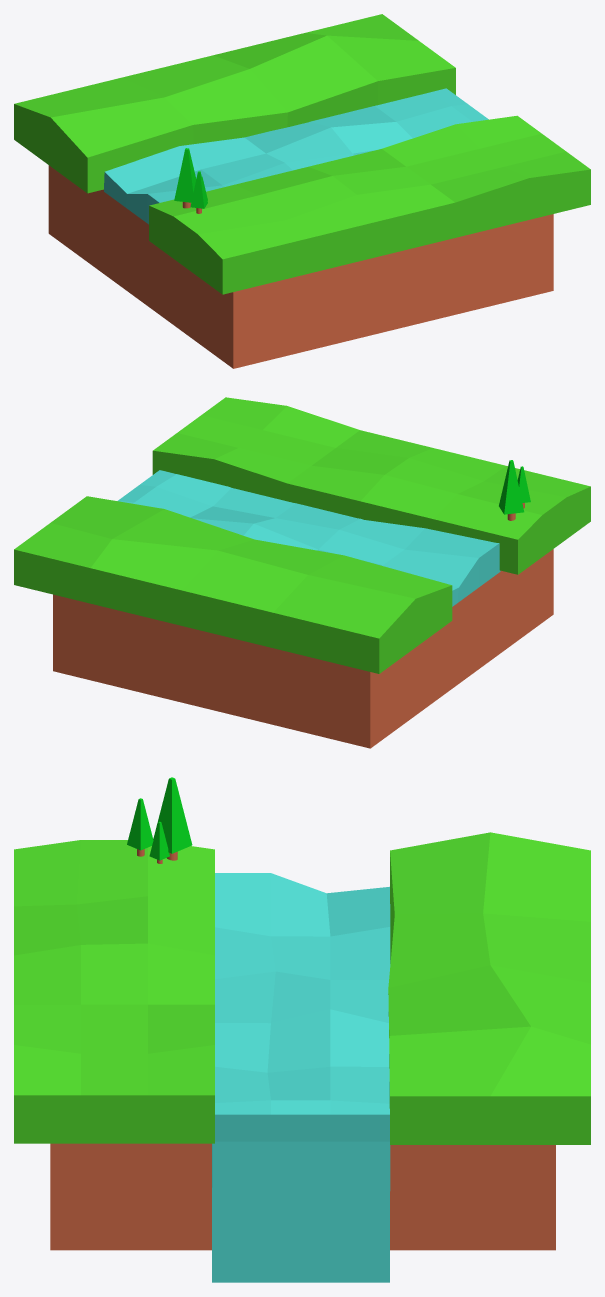
Rendered from sample_5.glb.
3 renders of one model, top to bottom at view 1: azimuth 30°, elevation 25°; view 2: azimuth 150°, elevation 25°; view 3: azimuth 270°, elevation 25°, orthographic. The views are drawn at different scales.
Visible parts, largest first — view 1: Cube.002; view 2: Cube.002; view 3: Cube.002.
Part boxes in pixels (<box>): Cube.002: <box>14,14,590,368</box>; Cube.002: <box>14,397,590,748</box>; Cube.002: <box>14,777,590,1282</box>.
Size of the model in its own units: 23.94 by 12.33 by 23.6.
